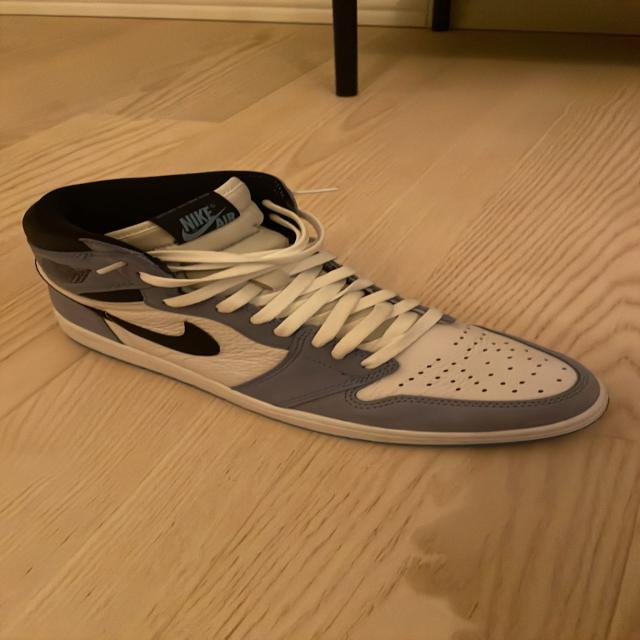shoes: (21, 169, 612, 449)
